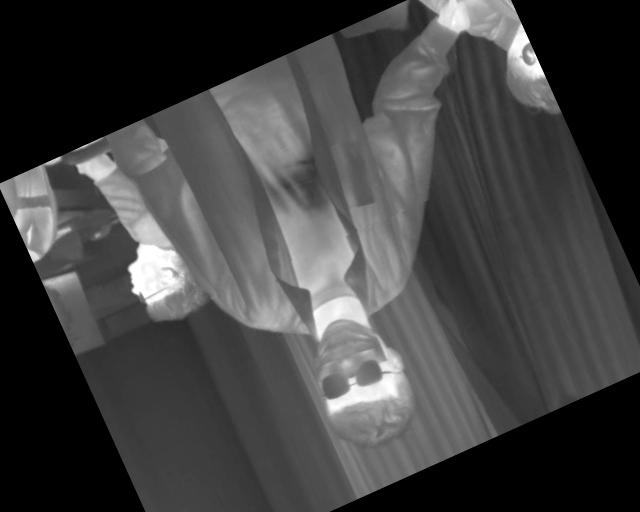face: (286, 300, 432, 464)
